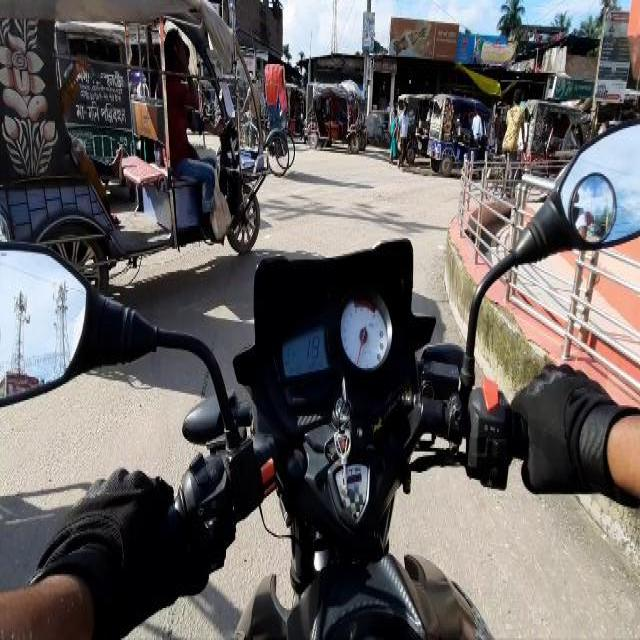10: (4, 276, 610, 638)
13: (240, 62, 294, 176)
Car: (2, 2, 270, 250), (426, 91, 488, 176), (304, 80, 358, 151), (398, 93, 432, 163), (356, 92, 366, 146)
Motorcycle: (486, 94, 532, 198)
